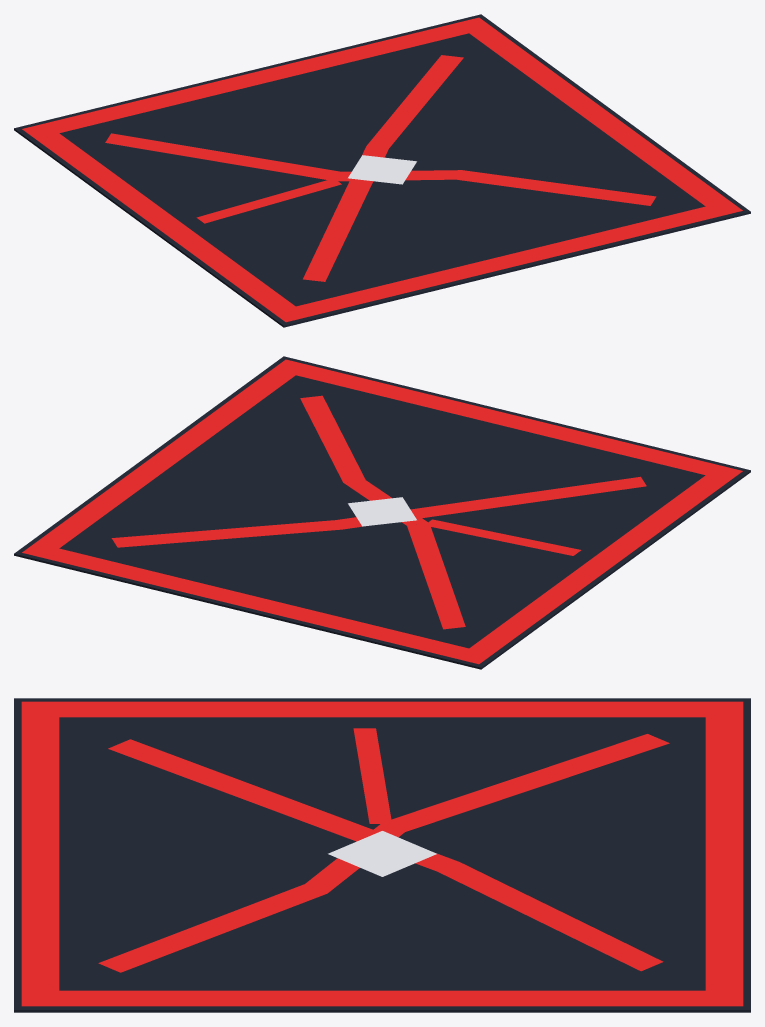
The model's file is OVL_Arena_Collapse_Warn.obj.
3 renders of one model, top to bottom at view 1: azimuth 30°, elevation 25°; view 2: azimuth 150°, elevation 25°; view 3: azimuth 270°, elevation 25°, orthographic. The views are drawn at different scales.
Parts seen in each view (by area): view 1: OVL_Carrier_Collapse, OVL_Collapse_RedBorder, OVL_Collapse_CrackDecals, OVL_Collapse_CenterAlert; view 2: OVL_Carrier_Collapse, OVL_Collapse_RedBorder, OVL_Collapse_CrackDecals, OVL_Collapse_CenterAlert; view 3: OVL_Carrier_Collapse, OVL_Collapse_RedBorder, OVL_Collapse_CrackDecals, OVL_Collapse_CenterAlert.
Part boxes in pixels (x1,y1,x2,y2): OVL_Carrier_Collapse: (14, 14, 750, 327); OVL_Collapse_RedBorder: (22, 17, 742, 322); OVL_Collapse_CrackDecals: (105, 55, 656, 281); OVL_Collapse_CenterAlert: (348, 155, 416, 184); OVL_Carrier_Collapse: (14, 356, 750, 669); OVL_Collapse_RedBorder: (22, 359, 742, 664); OVL_Collapse_CrackDecals: (111, 395, 646, 629); OVL_Collapse_CenterAlert: (348, 497, 416, 526); OVL_Carrier_Collapse: (14, 698, 750, 1012); OVL_Collapse_RedBorder: (21, 701, 743, 1006); OVL_Collapse_CrackDecals: (98, 728, 669, 972); OVL_Collapse_CenterAlert: (328, 831, 436, 876).
Bounding box in the file's own units: 11.4 × 0.05 × 11.4.
3 materials, 3 textured.
